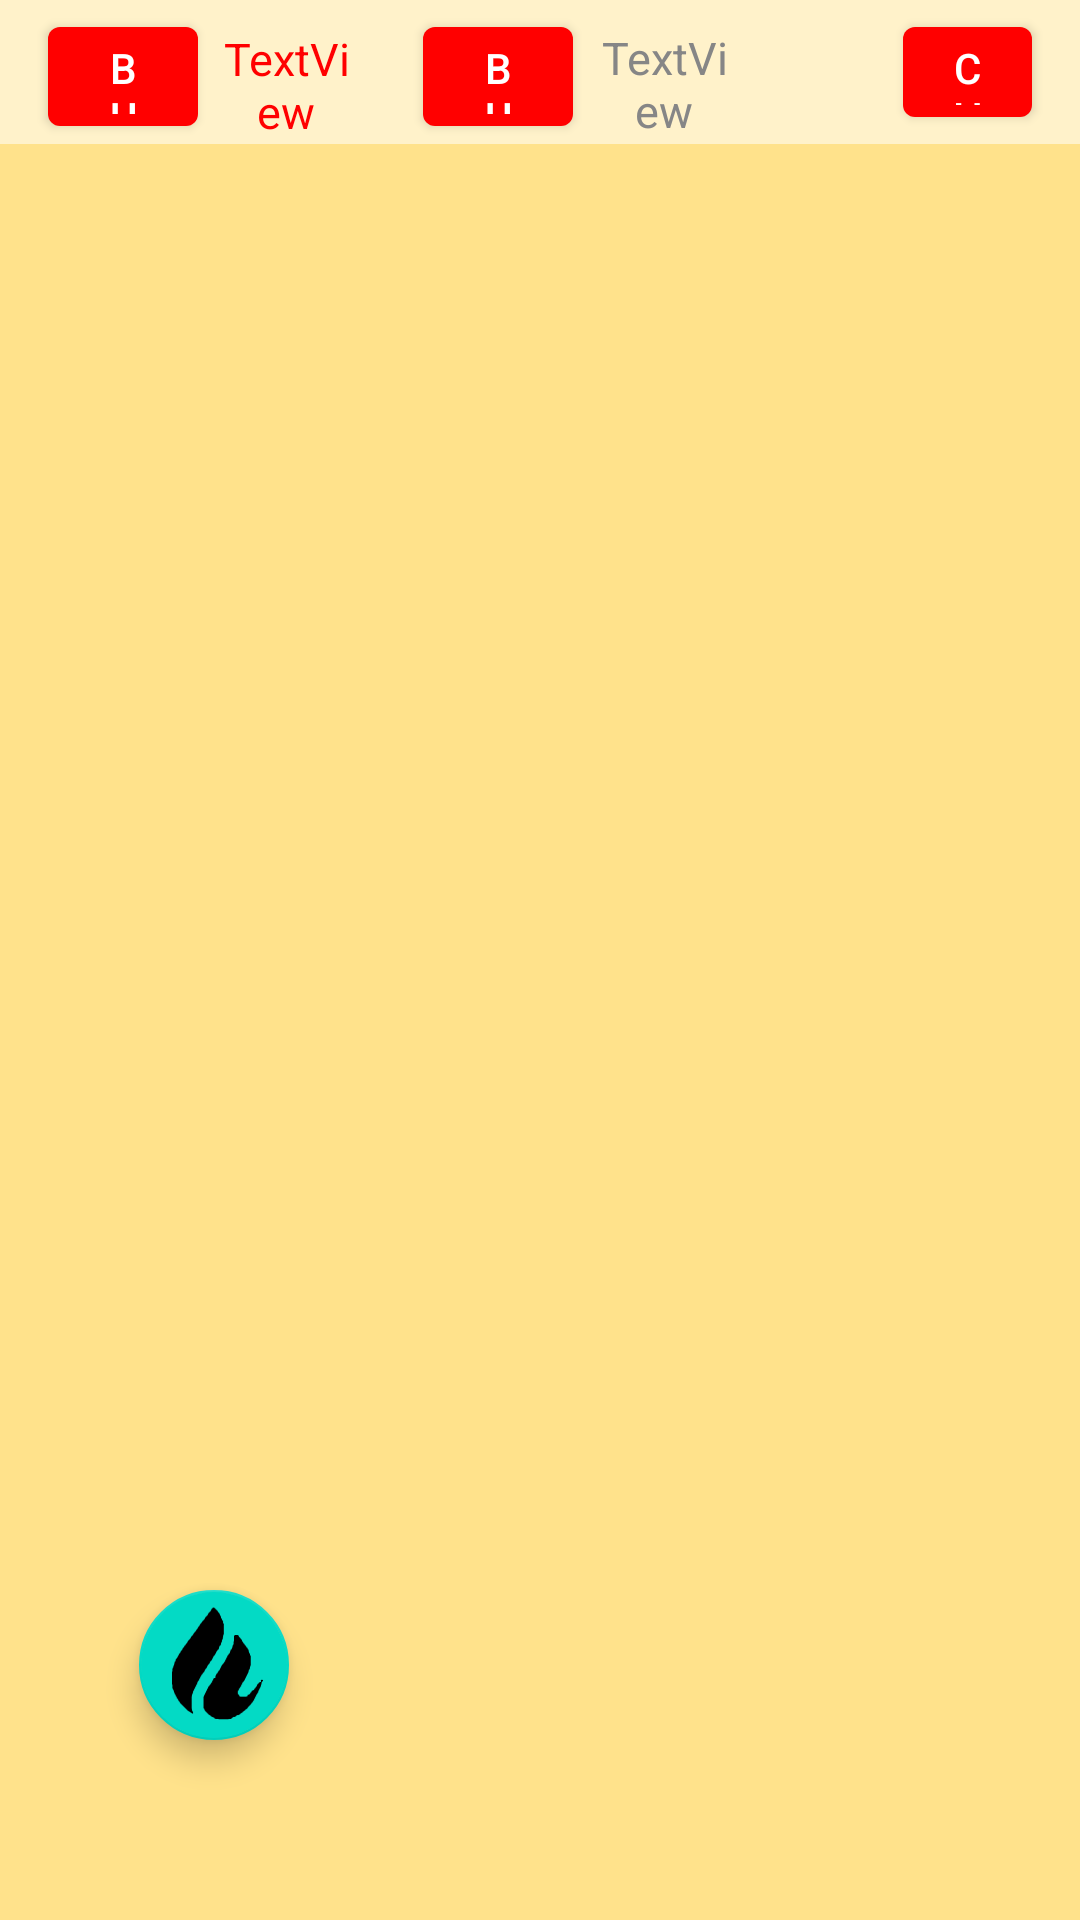

Icon click points for this 1080×1920 phone screenshot, format point (x, y):
fab faer: point (214, 1665)
